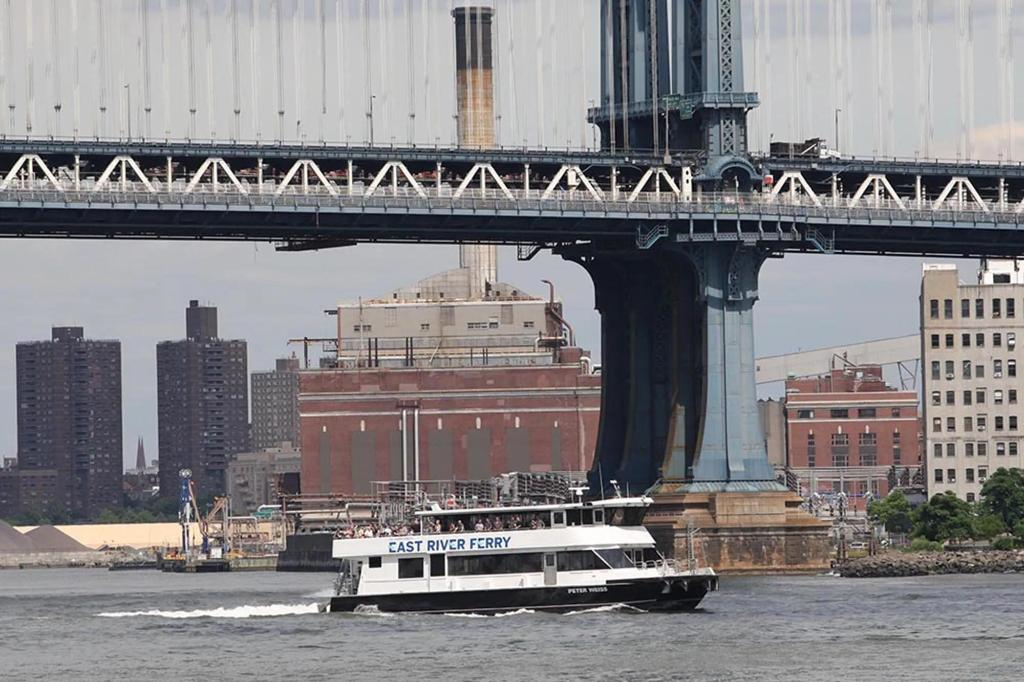PassengerShip: (304, 477, 728, 625)
